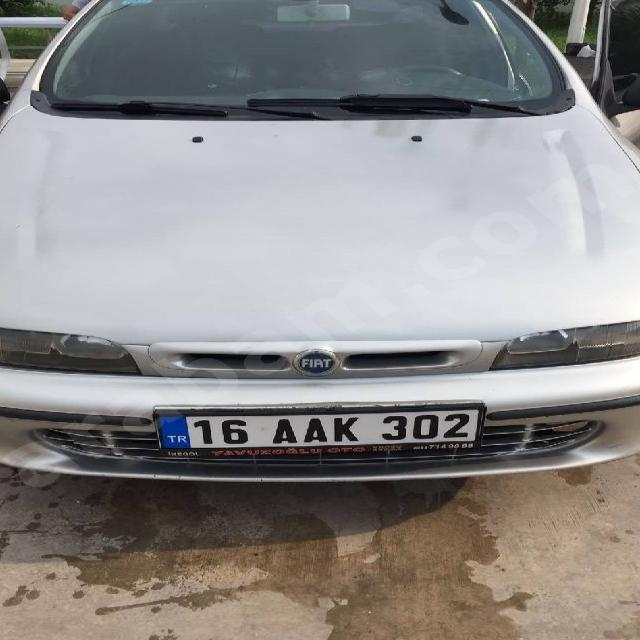license_plate: (156, 408, 480, 450)
